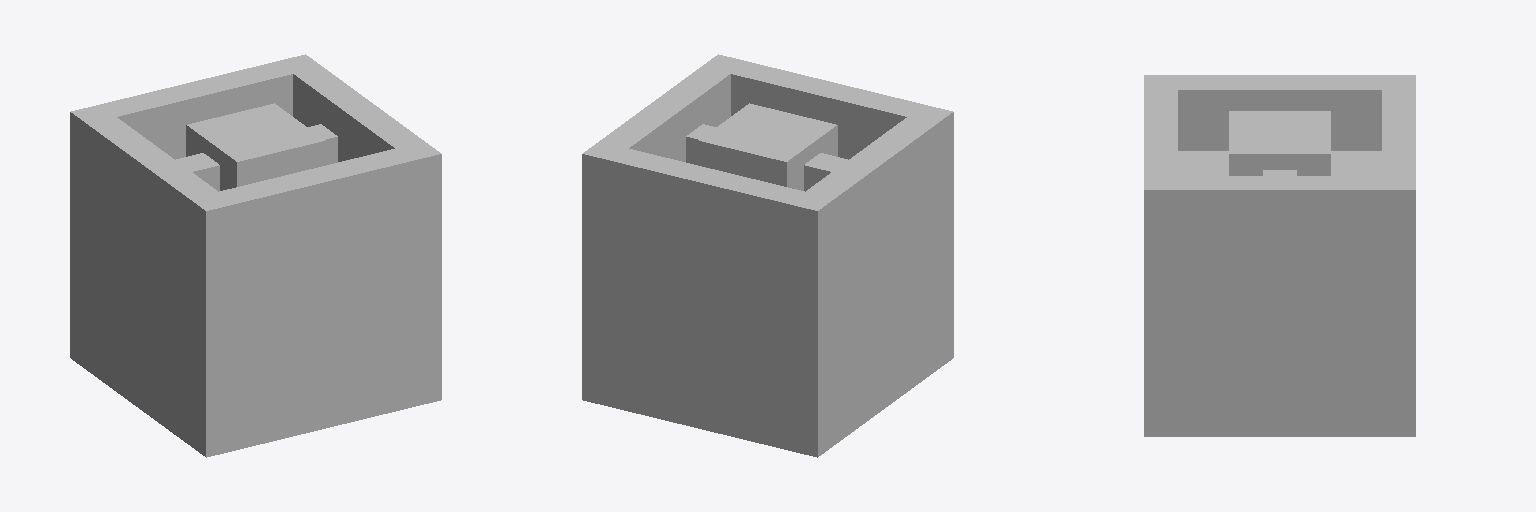
Rendered from fountain_base.obj.
3 views of the same model, side by side, from view 1: azimuth 30°, elevation 25°; view 2: azimuth 150°, elevation 25°; view 3: azimuth 270°, elevation 25° (orthographic).
Parts seen in each view (by area): view 1: fbBody, mainPipe, sidePipe1, sidePipe2; view 2: fbBody, mainPipe, sidePipe1, sidePipe2; view 3: fbBody, mainPipe.
Boxes of the visible parts, x1,y1,x2,y2 form: fbBody: [70, 54, 441, 457]; mainPipe: [186, 103, 325, 190]; sidePipe1: [176, 153, 219, 191]; sidePipe2: [308, 124, 337, 164]; fbBody: [582, 54, 953, 457]; mainPipe: [698, 103, 837, 190]; sidePipe1: [804, 153, 847, 191]; sidePipe2: [686, 124, 715, 164]; fbBody: [1144, 75, 1415, 436]; mainPipe: [1229, 111, 1330, 175].
Size of the model in its own units: 1 by 1 by 1.